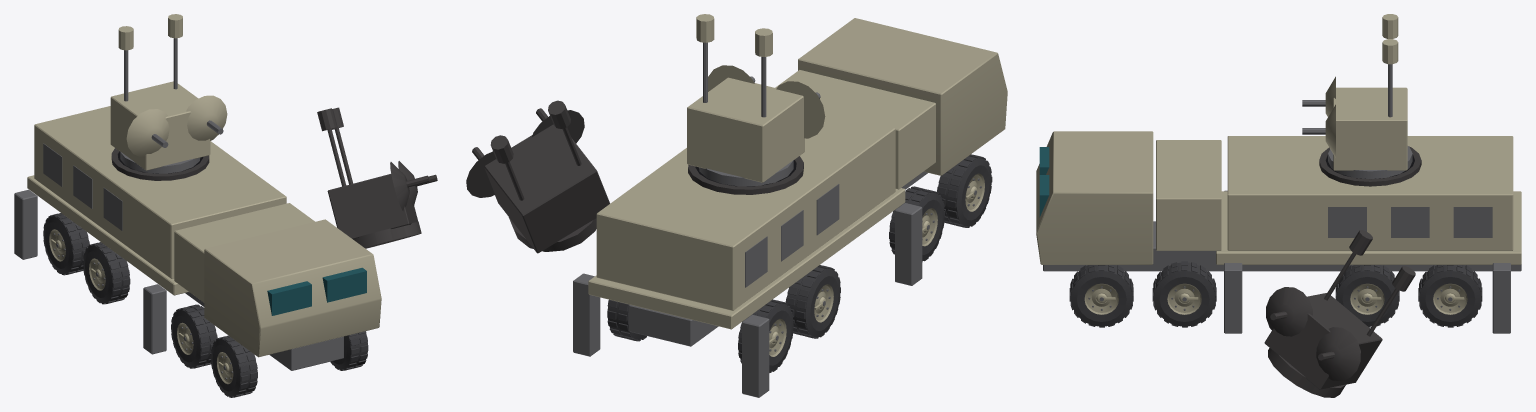
File: ewVehicle__krasukha_4.glb
3 renders of one model, left to right at view 1: azimuth 30°, elevation 25°; view 2: azimuth 150°, elevation 25°; view 3: azimuth 270°, elevation 25°, orthographic. The views are drawn at different scales.
Visible parts, largest first — view 1: Hull_Mesh, Wreck, Turret_Mesh, Gun_Mesh, Wheel_L3_Mesh, Wheel_L1_Mesh, Wheel_L2_Mesh, Wheel_L0_Mesh, Wheel_R3_Mesh; view 2: Hull_Mesh, Wreck, Turret_Mesh, Wheel_L1_Mesh, Wheel_L3_Mesh, Wheel_L2_Mesh, Gun_Mesh, Wheel_L0_Mesh, Wheel_R0_Mesh; view 3: Hull_Mesh, Wreck, Turret_Mesh, Wheel_R2_Mesh, Wheel_R0_Mesh, Wheel_R3_Mesh, Wheel_R1_Mesh, Gun_Mesh.
Boxes of the visible parts, x1,y1,x2,y2 form: Hull_Mesh: [14, 106, 381, 370]; Wreck: [57, 107, 437, 397]; Turret_Mesh: [110, 14, 210, 173]; Gun_Mesh: [126, 95, 227, 157]; Wheel_L3_Mesh: [210, 335, 257, 397]; Wheel_L1_Mesh: [83, 242, 130, 304]; Wheel_L2_Mesh: [171, 304, 217, 368]; Wheel_L0_Mesh: [43, 213, 89, 275]; Wheel_R3_Mesh: [330, 331, 368, 370]; Hull_Mesh: [573, 18, 1007, 397]; Wreck: [466, 100, 968, 370]; Turret_Mesh: [687, 14, 804, 186]; Wheel_L1_Mesh: [785, 265, 840, 338]; Wheel_L3_Mesh: [937, 154, 992, 227]; Wheel_L2_Mesh: [889, 186, 944, 261]; Gun_Mesh: [708, 65, 825, 138]; Wheel_L0_Mesh: [738, 299, 793, 372]; Wheel_R0_Mesh: [607, 299, 646, 341]; Hull_Mesh: [1036, 131, 1521, 333]; Wreck: [1109, 146, 1459, 397]; Turret_Mesh: [1328, 14, 1412, 179]; Wheel_R2_Mesh: [1152, 261, 1216, 327]; Wheel_R0_Mesh: [1418, 265, 1482, 327]; Wheel_R3_Mesh: [1069, 265, 1133, 327]; Wheel_R1_Mesh: [1335, 265, 1399, 327]; Gun_Mesh: [1302, 76, 1335, 157].
Size of what is drawn, in the model's own units: 7 by 5.13 by 8.5.
